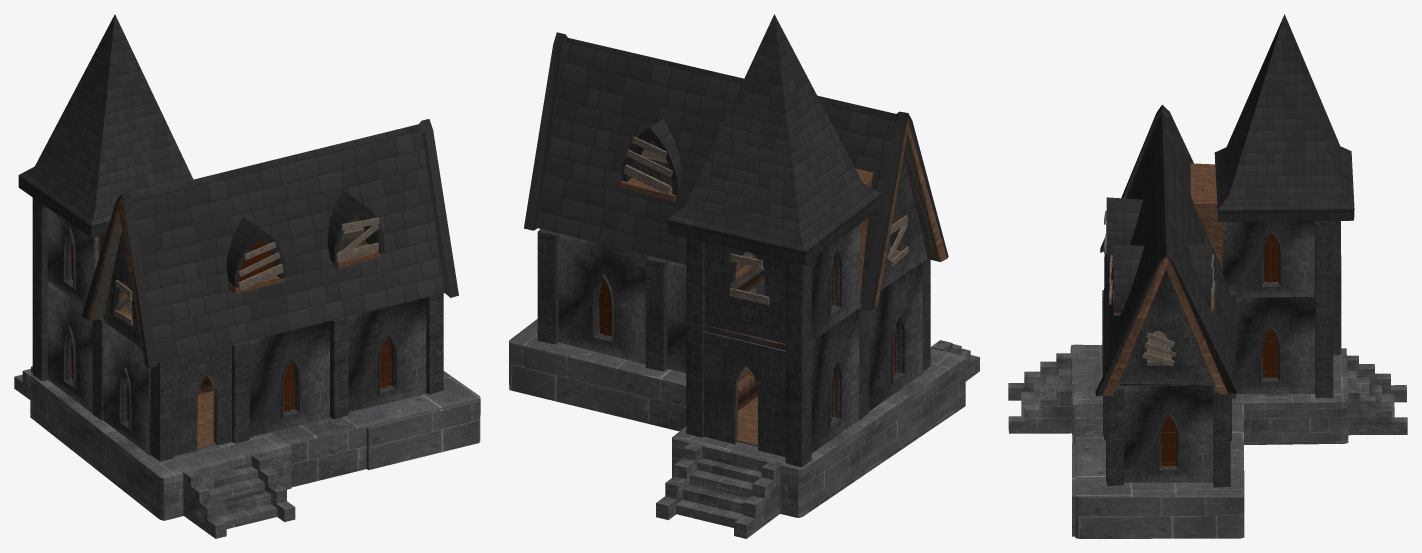
File: HLtemplate.glb
The picture shows the model from 3 angles, left to right: view 1: azimuth 30°, elevation 25°; view 2: azimuth 150°, elevation 25°; view 3: azimuth 270°, elevation 25°; orthographic projection. The views are drawn at different scales.
Parts seen in each view (by area): view 1: TemplateHN; view 2: TemplateHN; view 3: TemplateHN.
Boxes of the visible parts, <box> form: TemplateHN: <box>14,14,480,538</box>; TemplateHN: <box>509,14,979,538</box>; TemplateHN: <box>1008,14,1407,538</box>.
Size of what is drawn, in the model's own units: 20.15 by 24.59 by 22.16.
Materials: 11 (10 with a texture image).
